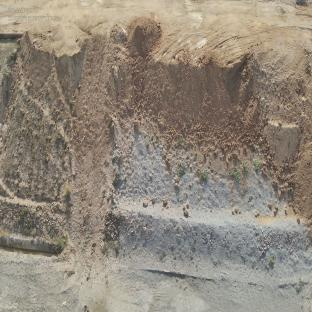toe_drain: (0, 238, 108, 264)
